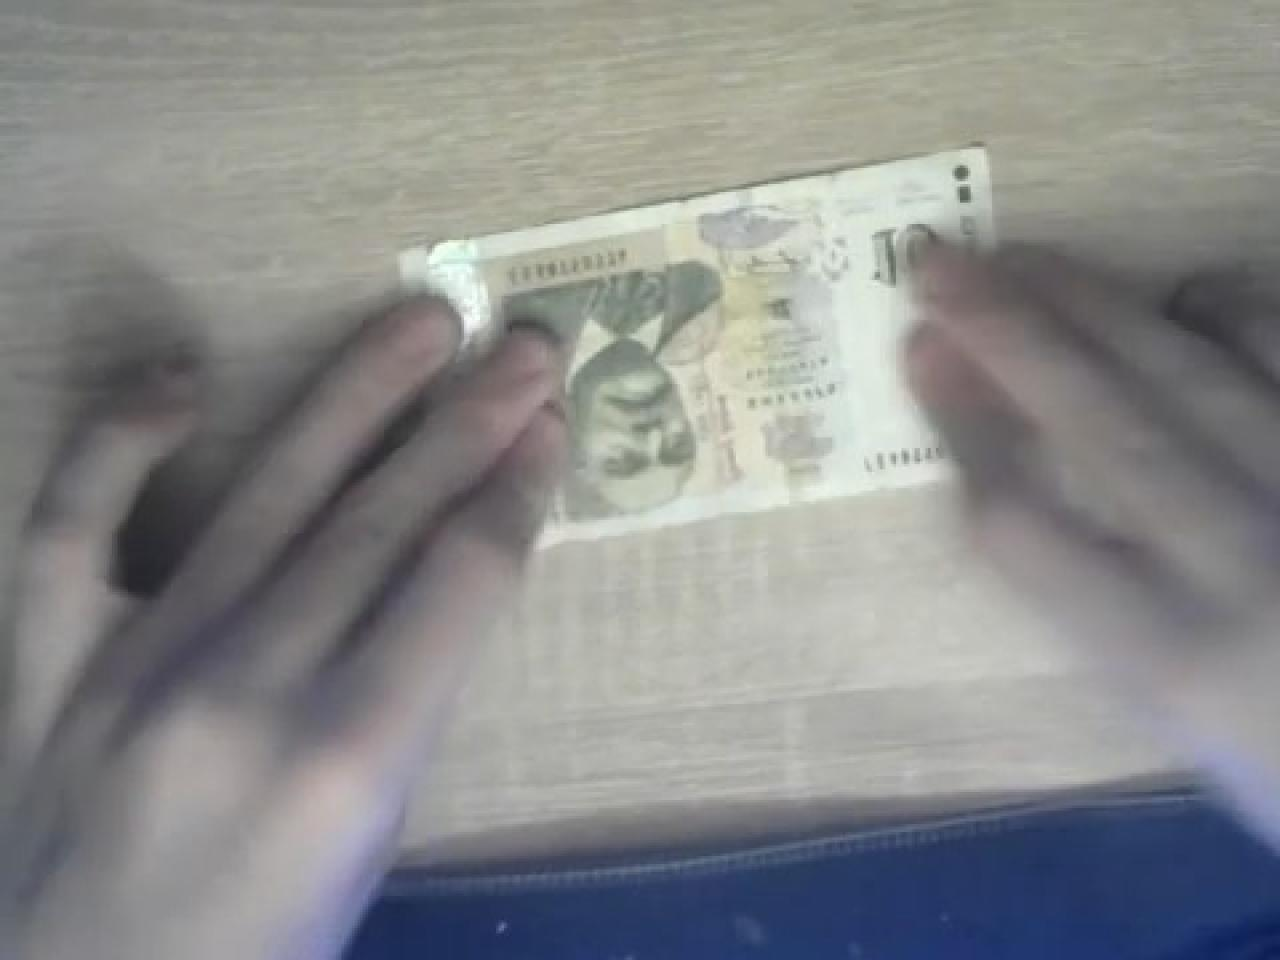10leva: (397, 144, 1000, 552)
